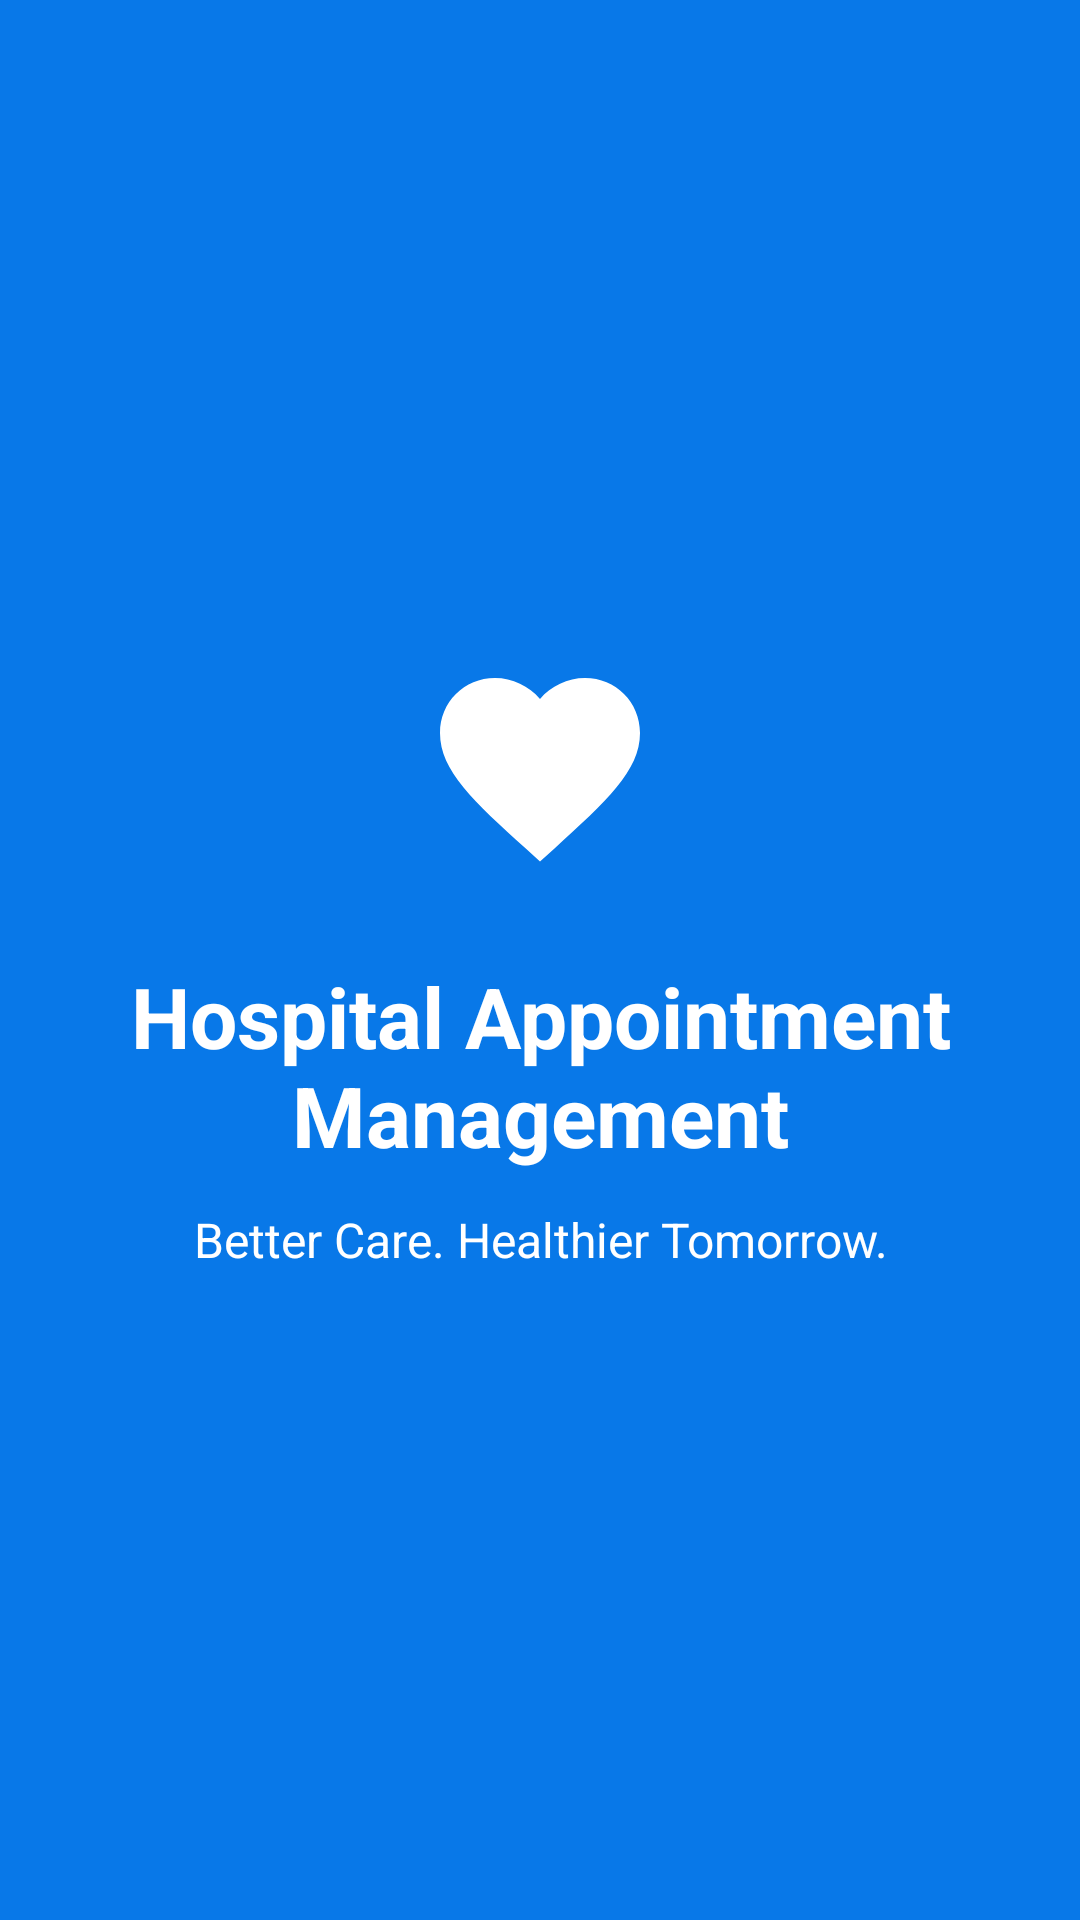

Icons on this 1080 x 1920 Android screen, each with the point to tap as [x,y]:
heart medical: [540,770]
